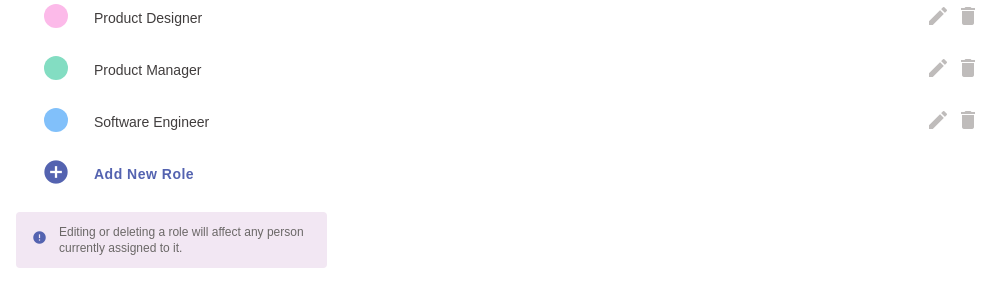
My Roles Form › adding roles › should show error message when duplicated role is added
This screenshot has width=997, height=307.
Click the text "Add New Role". click: (144, 174)
box: [94,166,194,182]
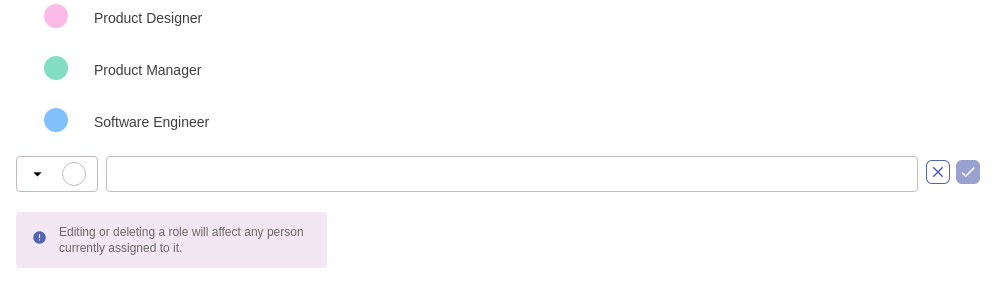
Type "Software Engineer" into the field with test id "tagNameInput". click: (512, 174)
box: [106,156,918,192]
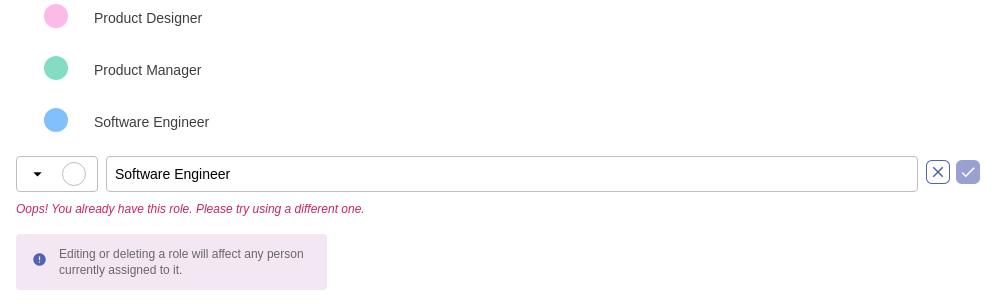
Expected: the button with test id "saveTagButton" is disabled, [956,160,980,188]
Expected: the text "Oops! You already have this role. Please try using a different one." is shown, [16,202,365,216]
